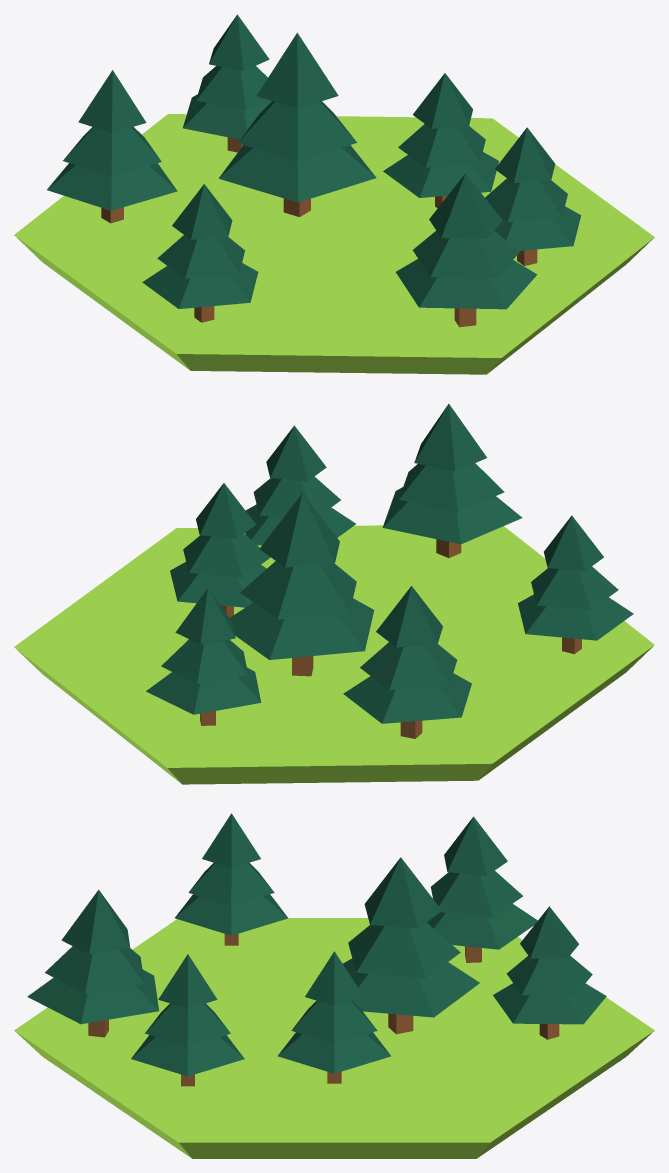
Rendered from G_F_Pine_2.fbx.
The picture shows the model from 3 angles, top to bottom: view 1: azimuth 30°, elevation 25°; view 2: azimuth 150°, elevation 25°; view 3: azimuth 270°, elevation 25°; orthographic projection. The views are drawn at different scales.
Parts seen in each view (by area): view 1: Grande tuille_foret.001; view 2: Grande tuille_foret.001; view 3: Grande tuille_foret.001.
Boxes of the visible parts, x1,y1,x2,y2 form: Grande tuille_foret.001: (14,14,654,374); Grande tuille_foret.001: (14,403,654,784); Grande tuille_foret.001: (14,813,654,1158).
Bounding box in the file's own units: 3165 × 1305 × 3822.
